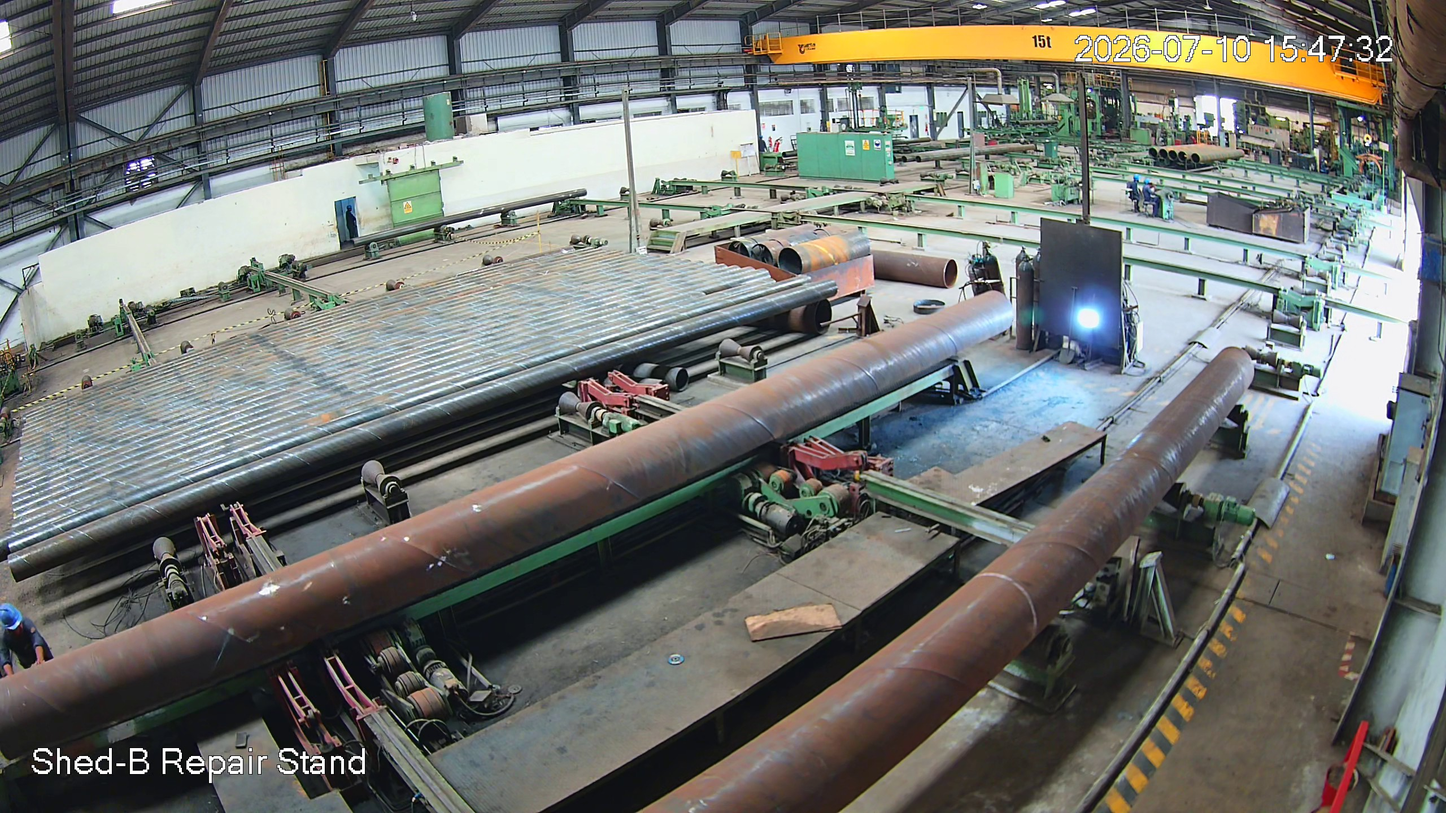Helmet: (2, 595, 35, 664)
Person: (1, 603, 39, 761)
